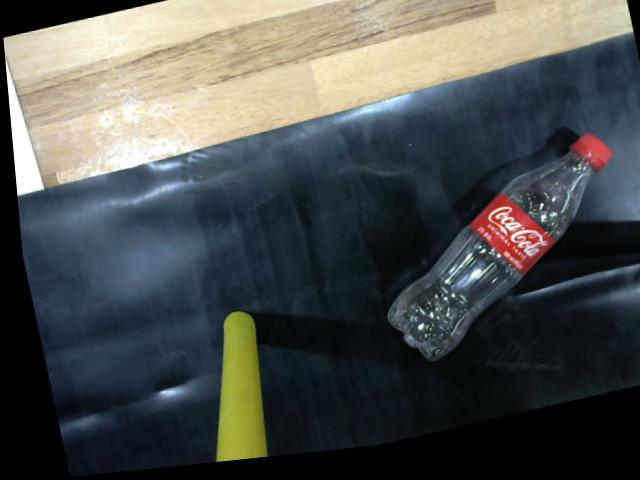bottle: (371, 138, 621, 378)
